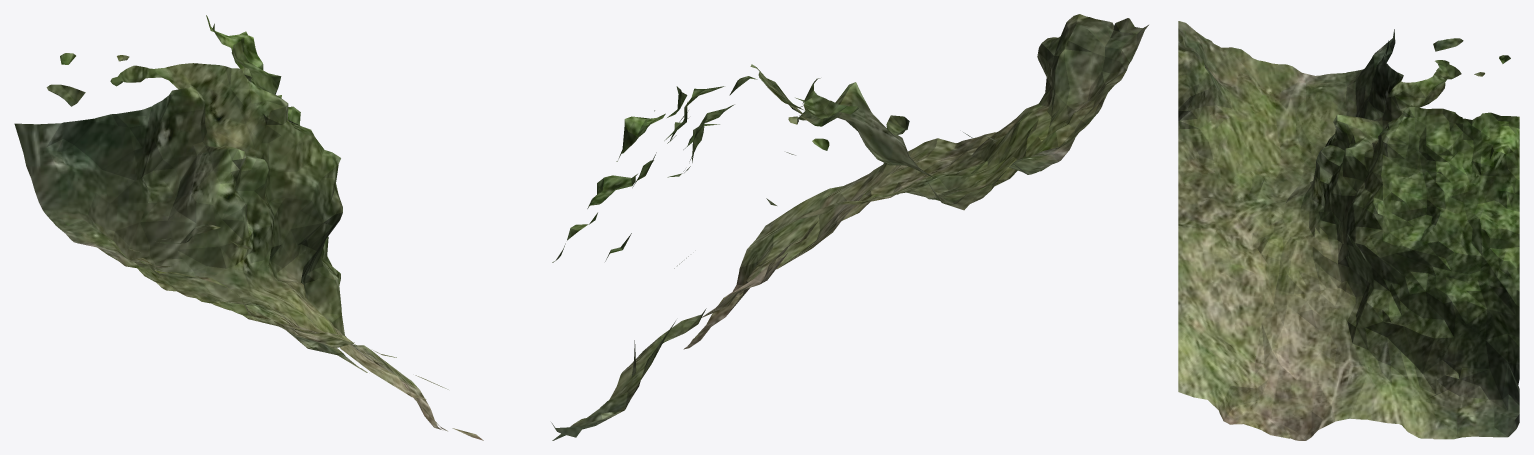
The picture shows the model from 3 angles, left to right: view 1: azimuth 30°, elevation 25°; view 2: azimuth 150°, elevation 25°; view 3: azimuth 270°, elevation 25°; orthographic projection. The views are drawn at different scales.
Size of the model in its own units: 2.95 by 2.7 by 2.95.
3 materials, 3 textured.
